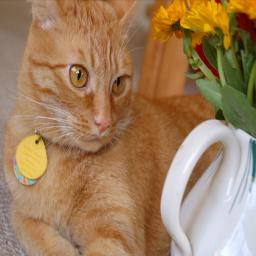catnose: (95, 117, 111, 133)
